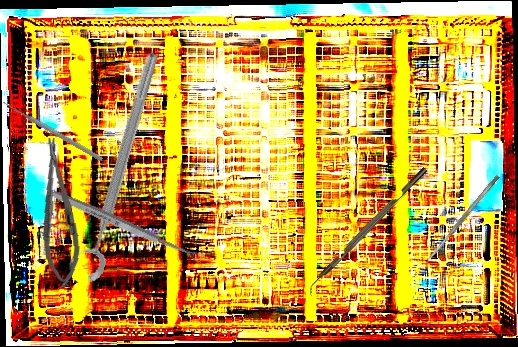Chopper: (302, 166, 435, 299)
Fixation Ring: (64, 46, 165, 285)
Needle Holder: (34, 136, 84, 289)
Pusher: (0, 98, 104, 163)
Spatula Surgical: (425, 173, 501, 263)
Surgical Spoon: (50, 188, 205, 265)
